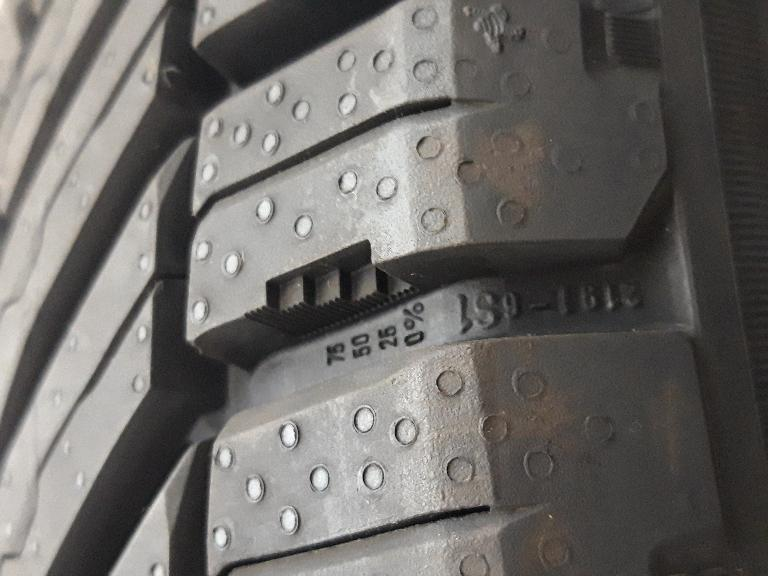temoin:100: (238, 232, 427, 348)
